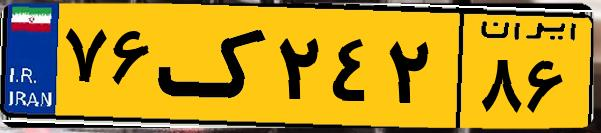2: (270, 28, 330, 110), (385, 28, 445, 110)
4: (330, 28, 385, 110)
6: (525, 38, 570, 115), (110, 28, 158, 98)
7: (57, 26, 110, 100)
8: (475, 38, 525, 113)
ک: (158, 12, 270, 120)
